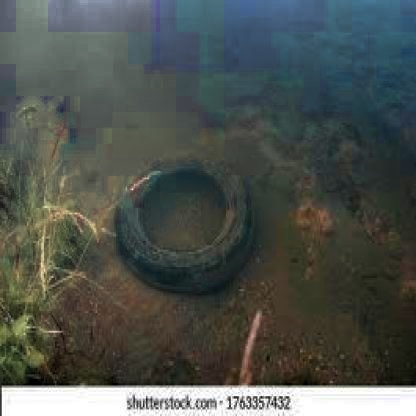tire: (110, 156, 249, 284)
